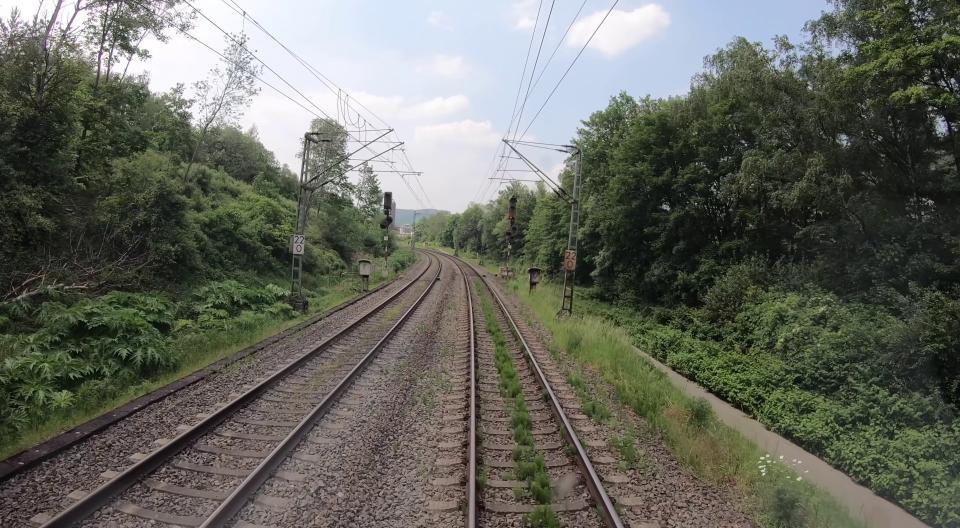Plant: (506, 274, 762, 496), (476, 282, 562, 528), (742, 450, 858, 528), (564, 366, 613, 422), (607, 426, 641, 470), (384, 302, 405, 320), (546, 338, 561, 361), (476, 472, 488, 491)
